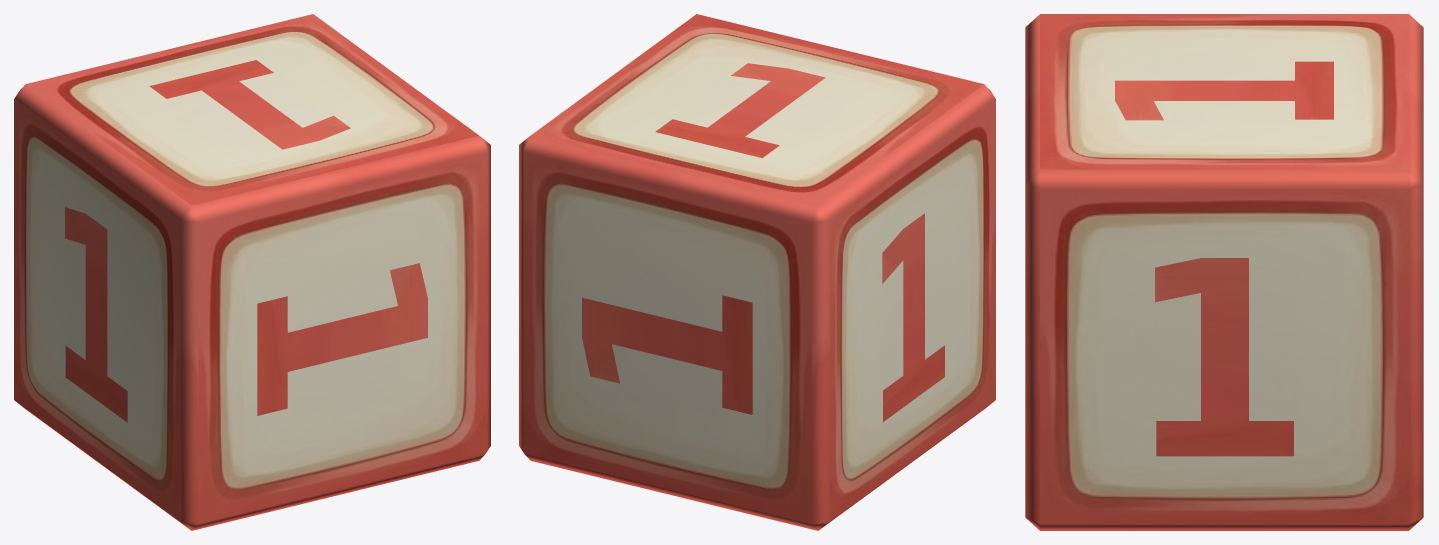
The picture shows the model from 3 angles, left to right: view 1: azimuth 30°, elevation 25°; view 2: azimuth 150°, elevation 25°; view 3: azimuth 270°, elevation 25°; orthographic projection. The views are drawn at different scales.
Visible parts, largest first — view 1: Cube1; view 2: Cube1; view 3: Cube1.
Boxes of the visible parts, x1,y1,x2,y2 form: Cube1: [14, 14, 490, 530]; Cube1: [519, 14, 995, 530]; Cube1: [1025, 14, 1423, 530].
Size of what is drawn, in the model's own units: 0.513 by 0.513 by 0.513.
1 material, 1 textured.
